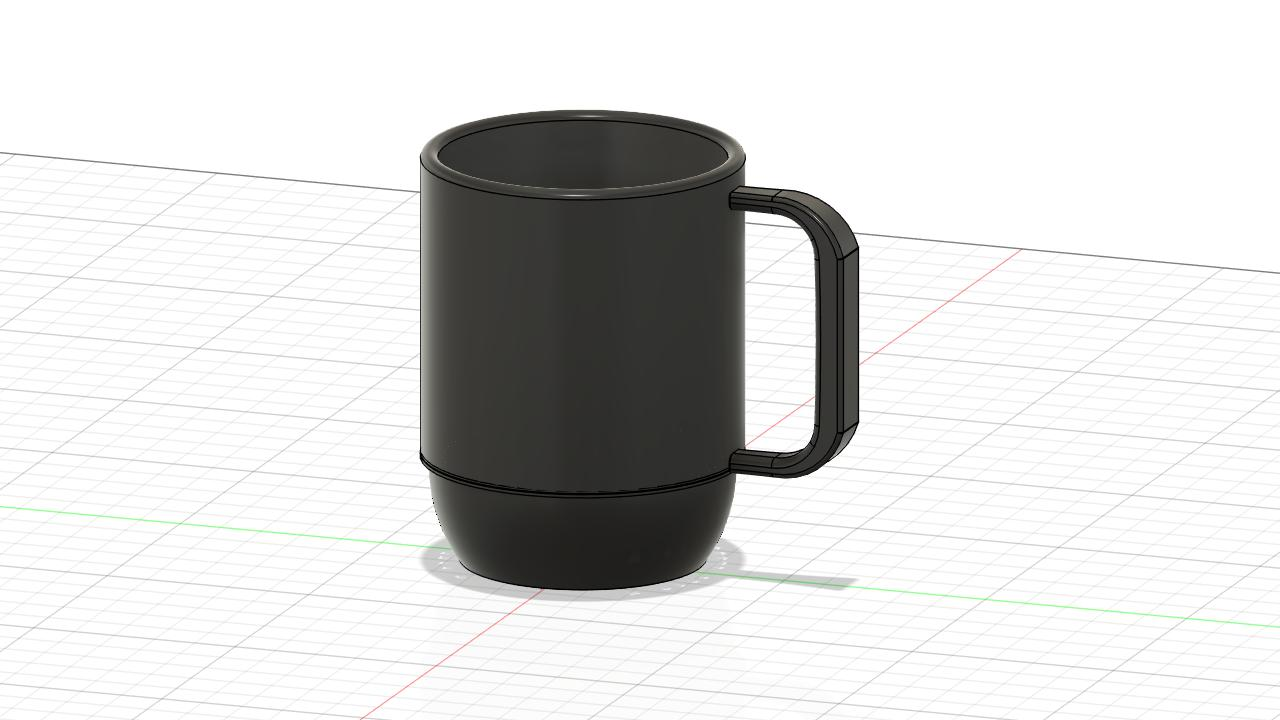mug-real100-3d100: (420, 110, 858, 589)
